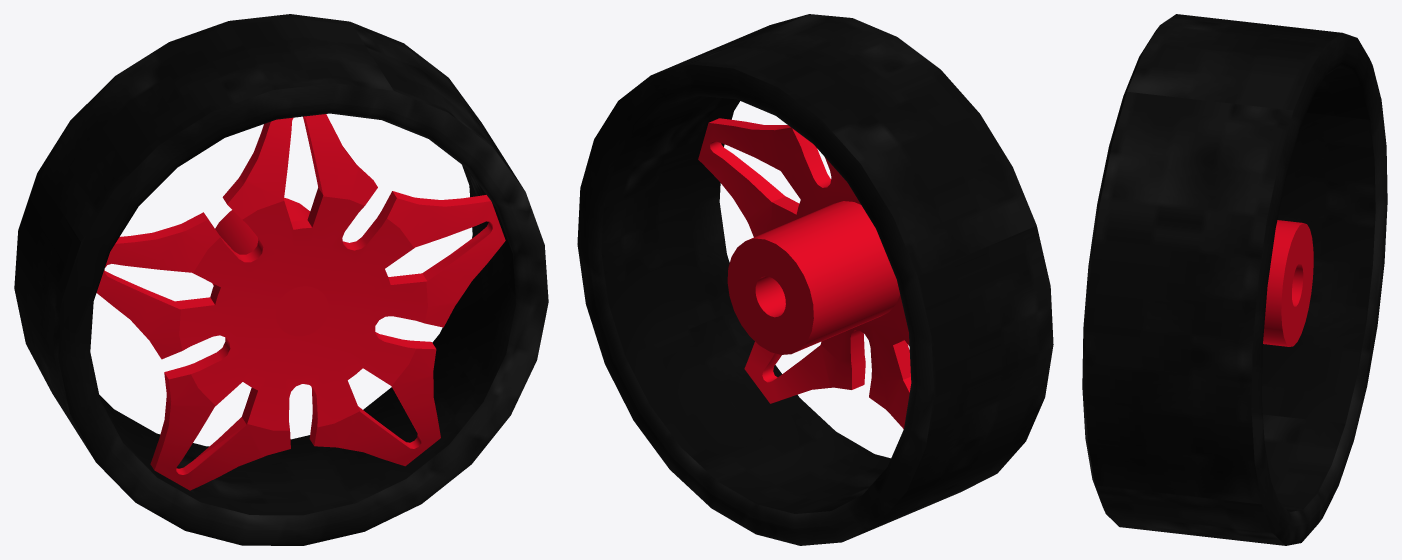
Rendered from Llanta_tra_der.fbx.
3 renders of one model, left to right at view 1: azimuth 30°, elevation 25°; view 2: azimuth 150°, elevation 25°; view 3: azimuth 270°, elevation 25°, orthographic. The views are drawn at different scales.
Visible parts, largest first — view 1: car.002, car.001; view 2: car.002, car.001; view 3: car.002, car.001.
Part boxes in pixels (x1,y1,x2,y2): car.002: (14, 14, 548, 545); car.001: (96, 114, 505, 490); car.002: (577, 14, 1053, 545); car.001: (698, 118, 911, 429); car.002: (1082, 14, 1387, 545); car.001: (1263, 220, 1313, 346).
Bounding box in the file's own units: 8203 × 7779 × 4609.
Materials: 2 (2 with a texture image).
